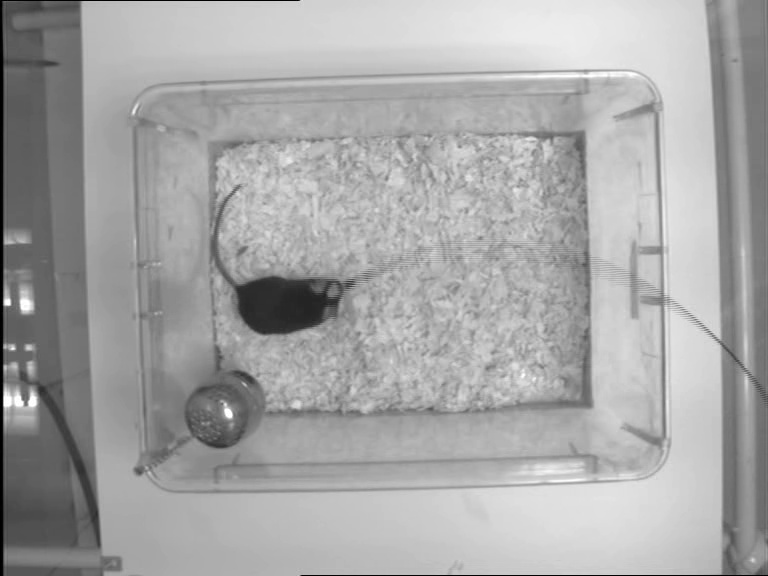mice: (212, 184, 345, 336)
